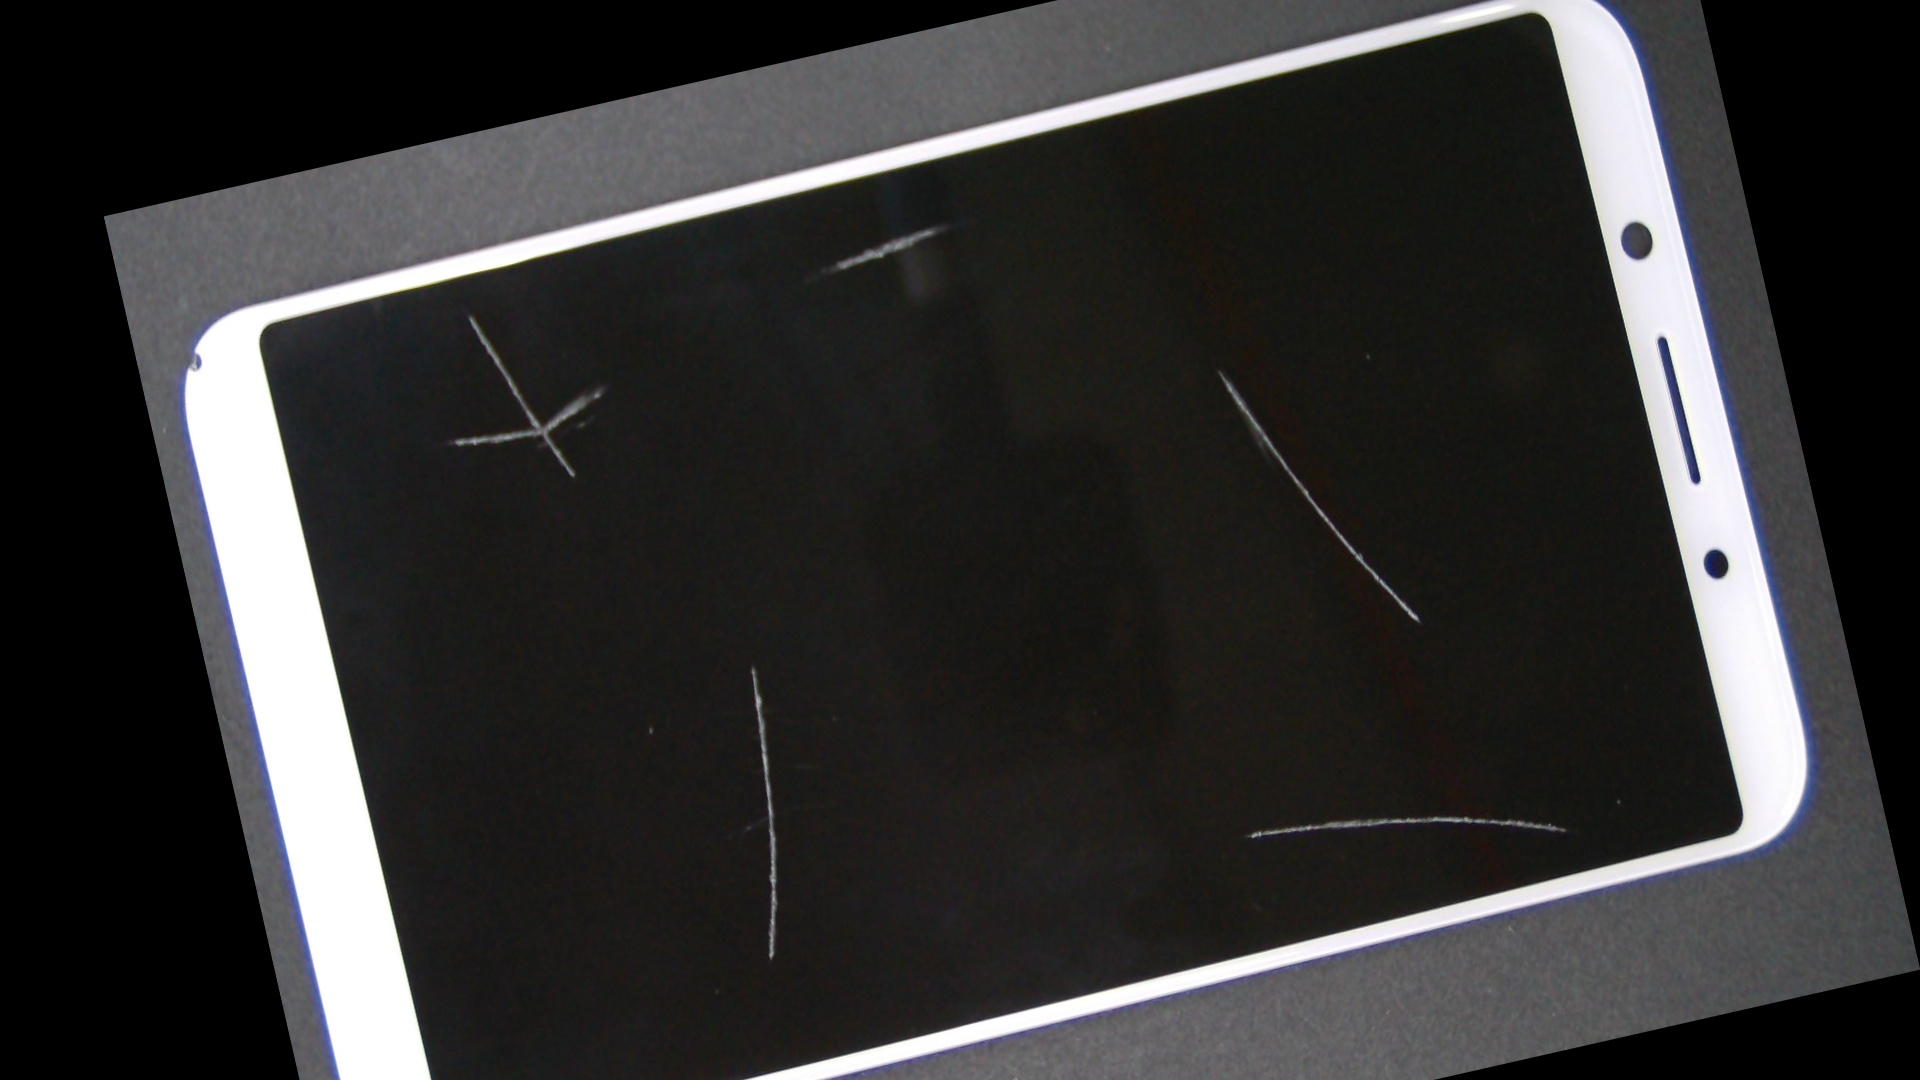oil: (676, 307, 1787, 1080), (662, 59, 1775, 679), (429, 322, 1076, 1009), (510, 49, 1323, 413), (348, 219, 836, 609), (285, 191, 649, 439)
